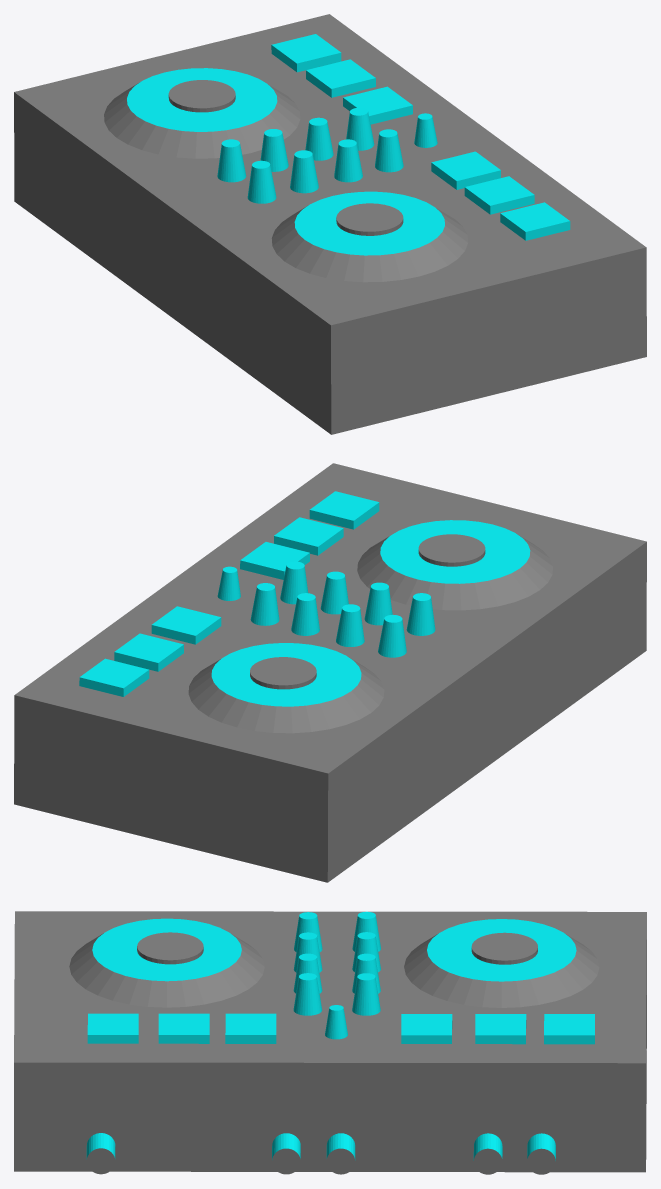
Rendered from computer2.glb.
3 renders of one model, top to bottom at view 1: azimuth 30°, elevation 25°; view 2: azimuth 150°, elevation 25°; view 3: azimuth 270°, elevation 25°, orthographic.
Visible parts, largest first — view 1: Controller, padsss, pads; view 2: Controller, padsss, pads; view 3: Controller, padsss, pads, buttons.001, buttons.
Boxes of the visible parts, <box> form: Controller: <box>14,14,646,434</box>; padsss: <box>127,68,444,255</box>; pads: <box>271,34,570,240</box>; Controller: <box>14,463,646,882</box>; padsss: <box>211,520,530,706</box>; pads: <box>79,491,379,696</box>; Controller: <box>14,911,646,1172</box>; padsss: <box>92,911,576,1039</box>; pads: <box>87,1013,594,1044</box>; buttons.001: <box>86,1148,555,1174</box>; buttons: <box>86,1133,555,1160</box>.
Bounding box in the file's own units: 7.63 × 3.01 × 12.09.
